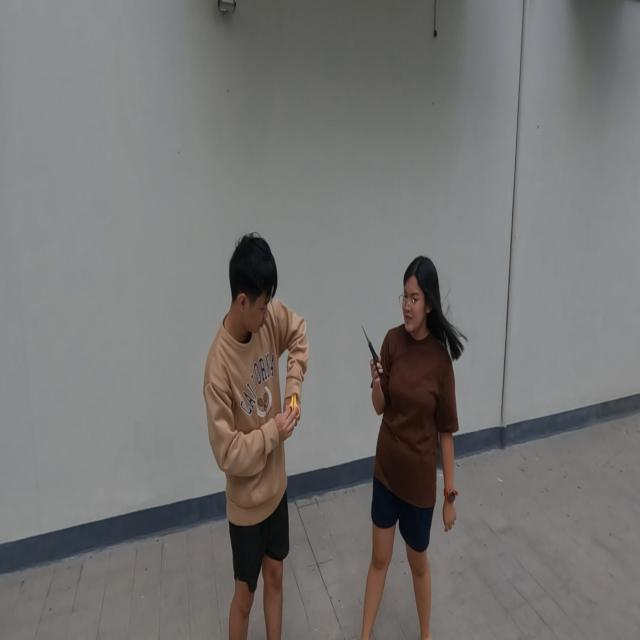scissor: (362, 324, 385, 381), (288, 395, 300, 420)
